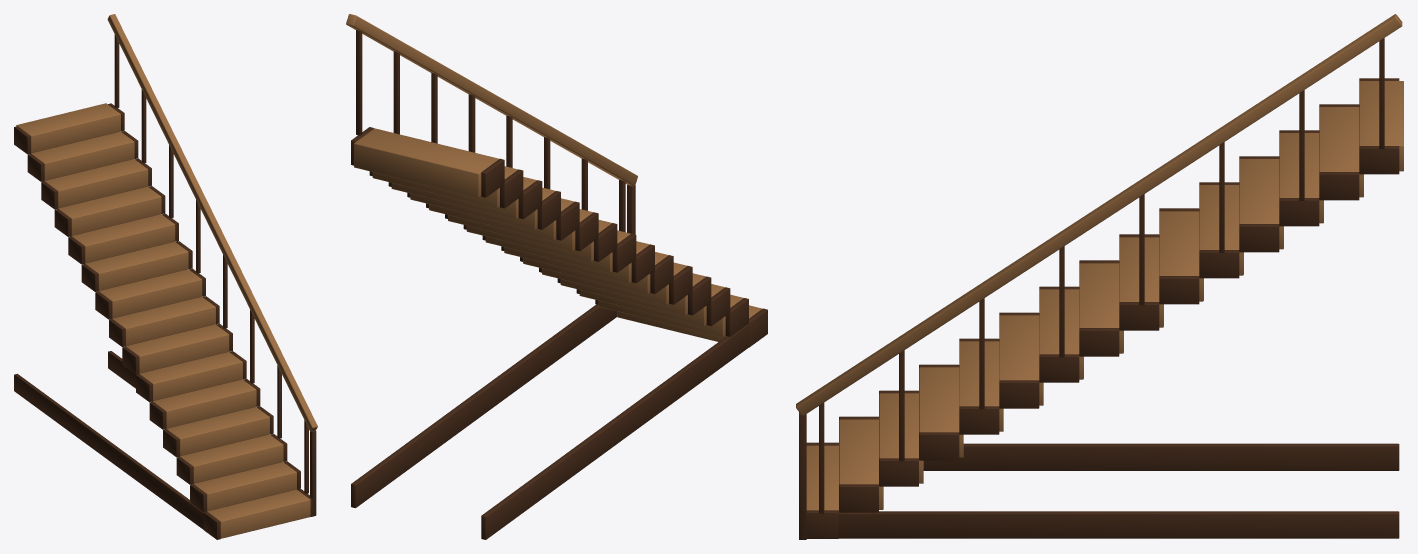
The model's file is Stairs_Straight_2.8m.glb.
3 renders of one model, left to right at view 1: azimuth 30°, elevation 25°; view 2: azimuth 150°, elevation 25°; view 3: azimuth 270°, elevation 25°, orthographic. The views are drawn at different scales.
Visible parts, largest first — view 1: Stairs_Straight_2.8m; view 2: Stairs_Straight_2.8m; view 3: Stairs_Straight_2.8m.
Part boxes in pixels (bbox=[...]): Stairs_Straight_2.8m: bbox=[14, 14, 317, 539]; Stairs_Straight_2.8m: bbox=[346, 14, 767, 539]; Stairs_Straight_2.8m: bbox=[796, 14, 1403, 539].
Size of the model in its own units: 1.11 by 3.75 by 3.95.
